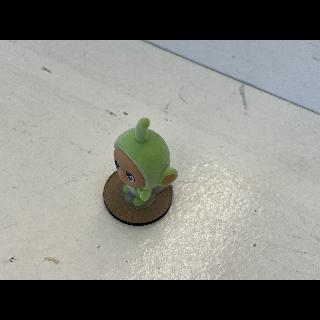teletubby: (114, 118, 178, 207)
